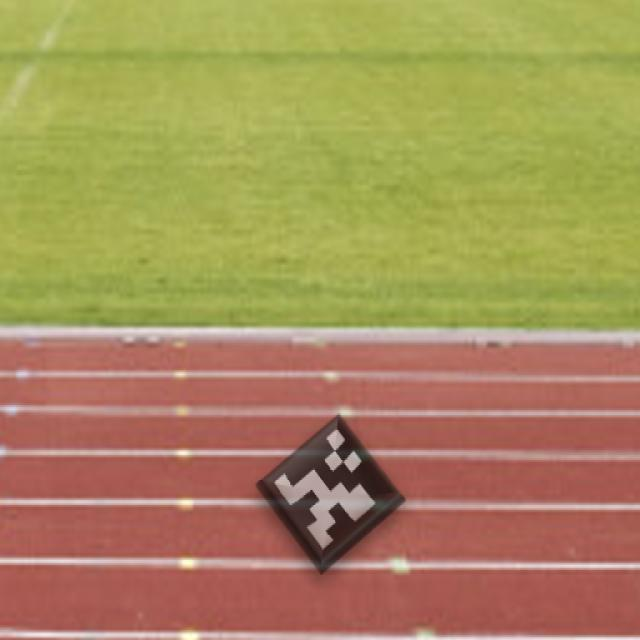marker: (251, 402, 412, 580)
